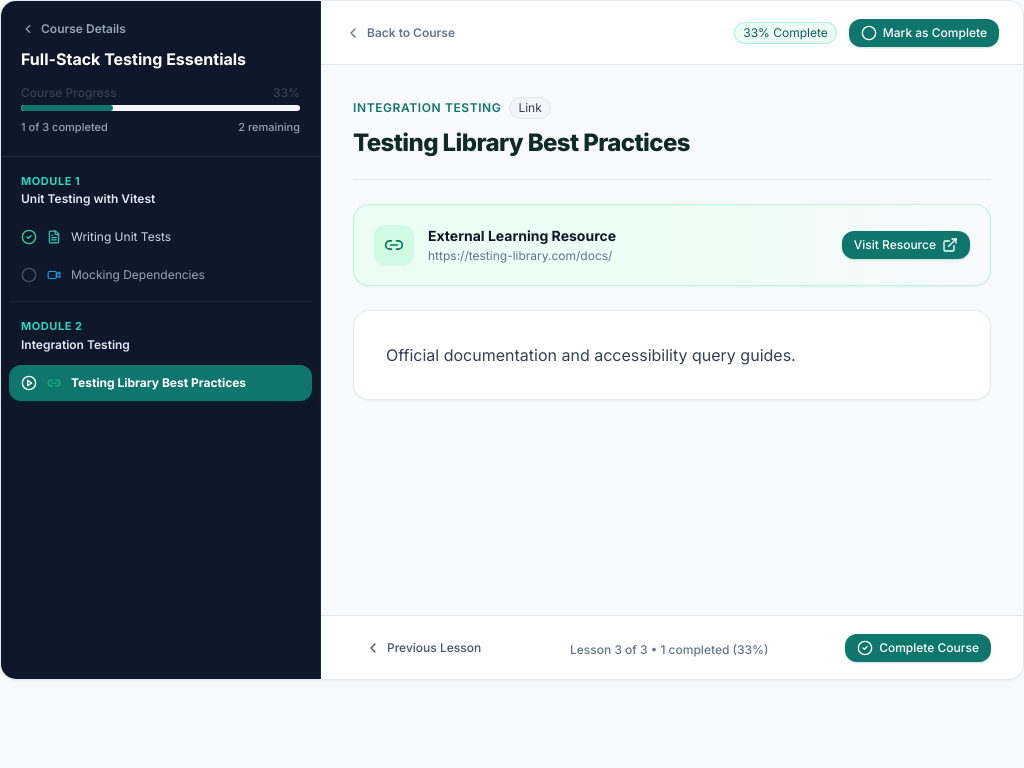
Scenario: LearningPlayerPage (Automatic Lesson Completion & Progress Flow) › 32. completing final lesson marks course 100% and displays assessment unlock banner
Expected: the heading "Testing Library Best Practices" is shown, [353,128,690,157]
Click the button "Complete Course".
click(918, 648)  # box [845,634,991,662]
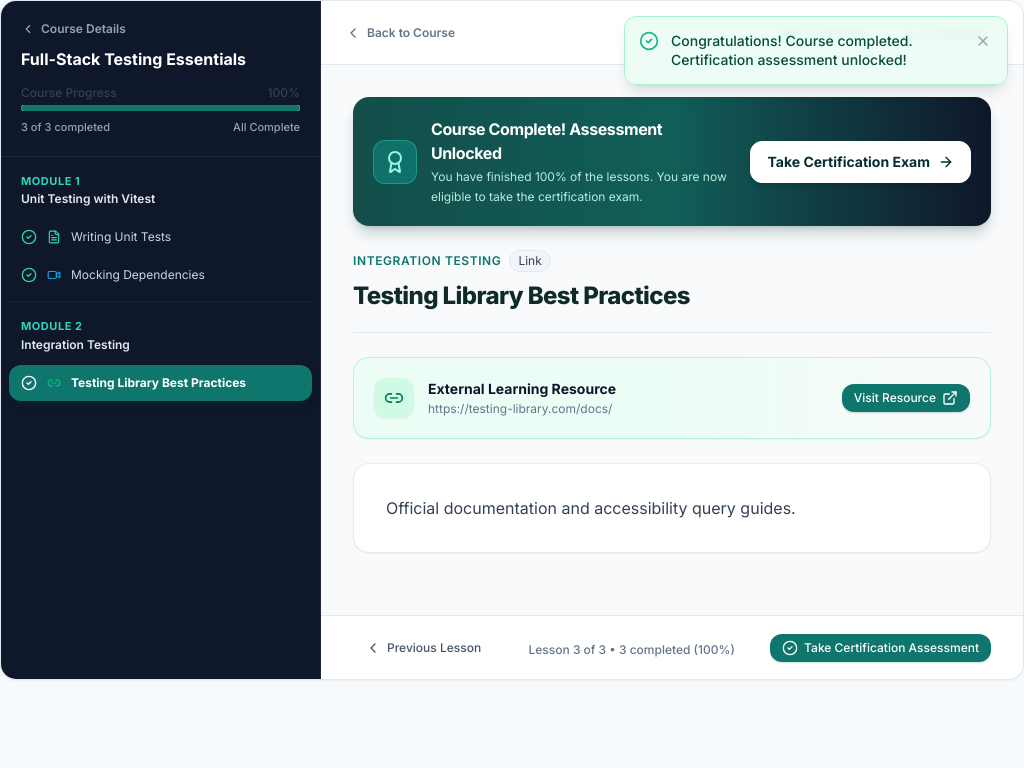
Expected: the element with test id "assessment-unlock-banner" is shown, [353,97,991,226]
Expected: the button "Take Certification Exam" is shown, [750,140,971,182]
